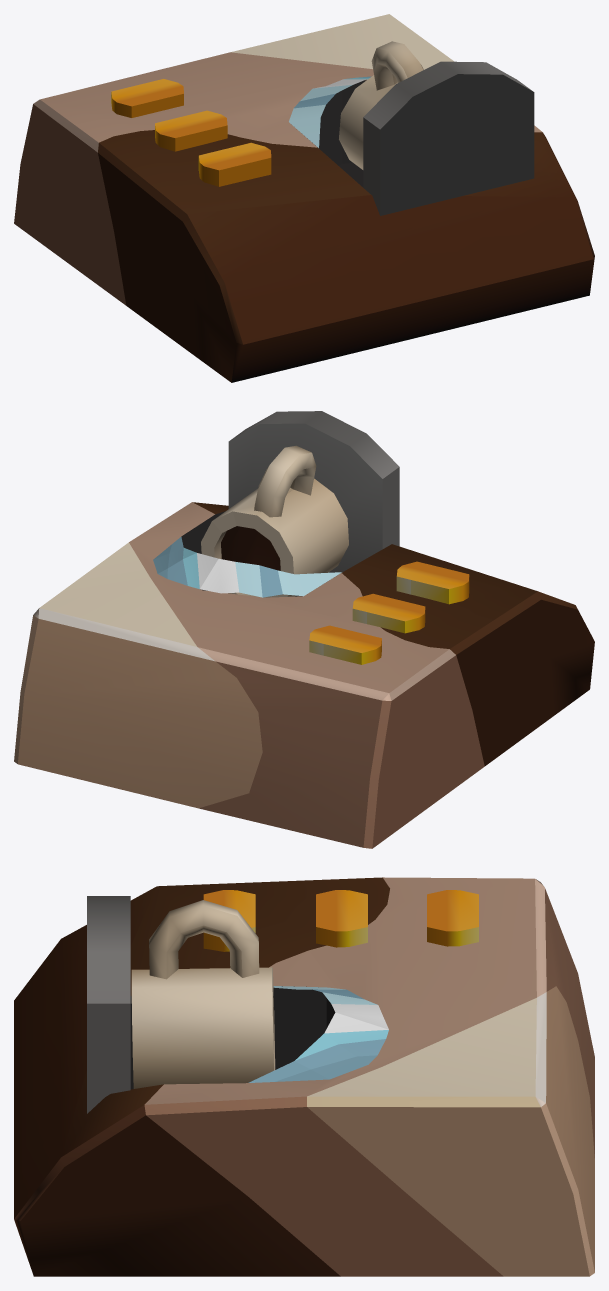
Rendered from HotChocolateMachine.fbx.
The picture shows the model from 3 angles, top to bottom: view 1: azimuth 30°, elevation 25°; view 2: azimuth 150°, elevation 25°; view 3: azimuth 270°, elevation 25°; orthographic projection. The views are drawn at different scales.
Parts seen in each view (by area): view 1: HotChocolateMachine; view 2: HotChocolateMachine; view 3: HotChocolateMachine.
Part boxes in pixels (left/top/right/bottom): HotChocolateMachine: left=14, top=14, right=594, bottom=382; HotChocolateMachine: left=14, top=411, right=594, bottom=848; HotChocolateMachine: left=14, top=877, right=594, bottom=1276.
Bounding box in the file's own units: 62.42 × 38.86 × 68.63.
